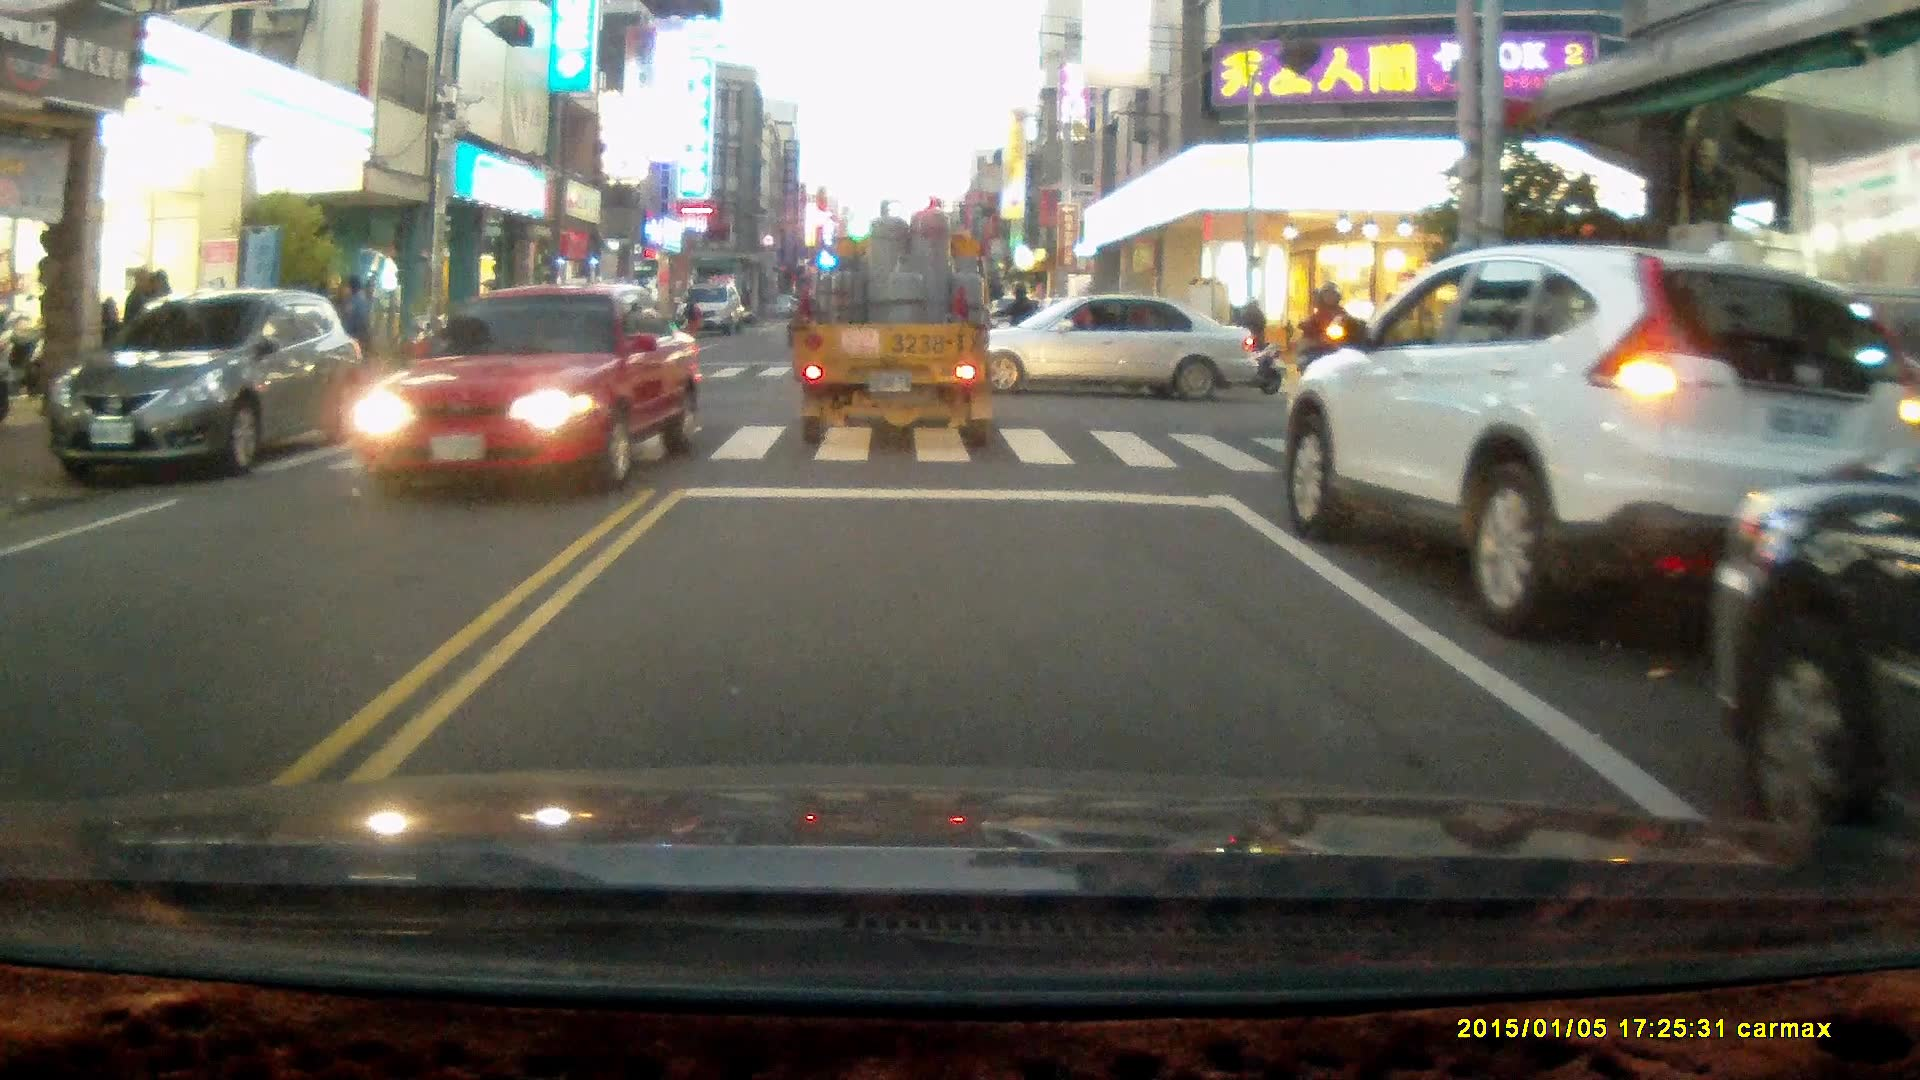pedestrian: (328, 271, 375, 408)
rider: (1289, 280, 1374, 446), (1195, 289, 1284, 394)
vehicle: (1280, 247, 1920, 647), (1708, 444, 1920, 874), (360, 281, 712, 492), (40, 286, 370, 485), (794, 192, 997, 457), (939, 293, 1258, 406), (677, 284, 744, 336)
